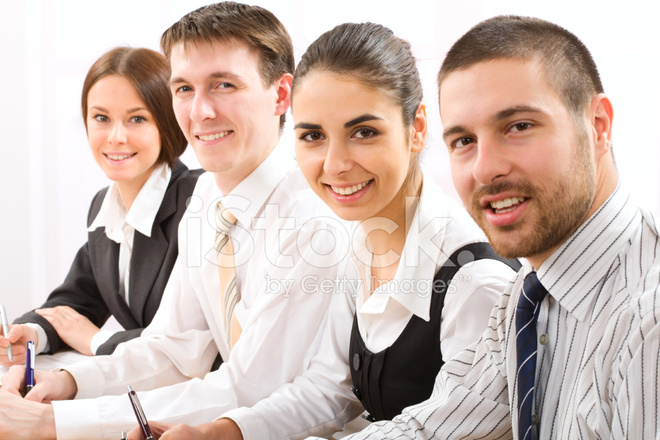bare: (447, 148, 582, 256), (296, 151, 405, 221), (173, 101, 266, 172), (87, 129, 162, 178)
